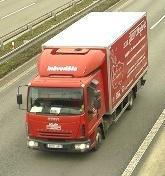Truck: (18, 13, 148, 154)
